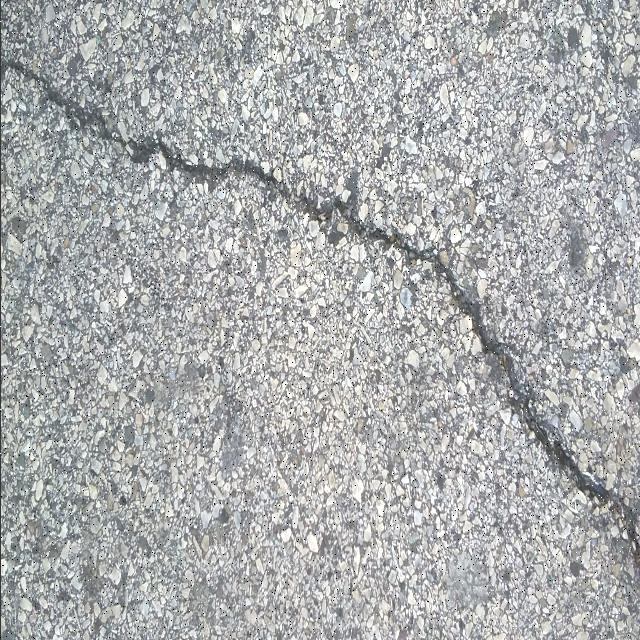Crack: (0, 61, 640, 569)
